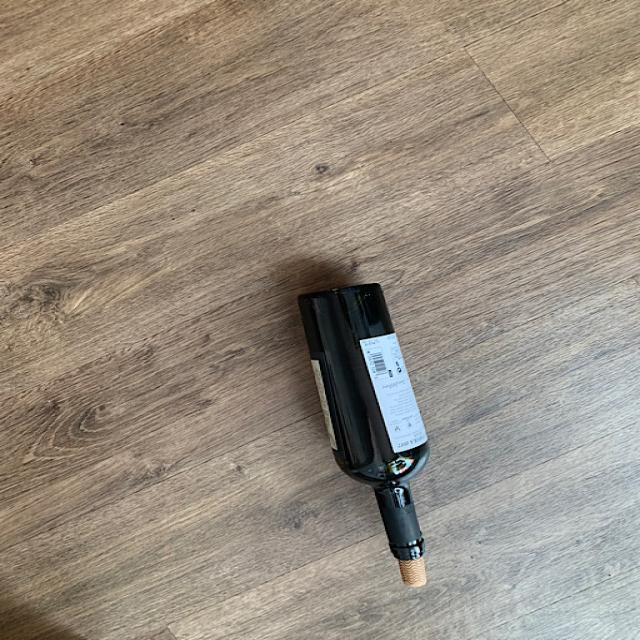litter: (299, 276, 449, 562)
